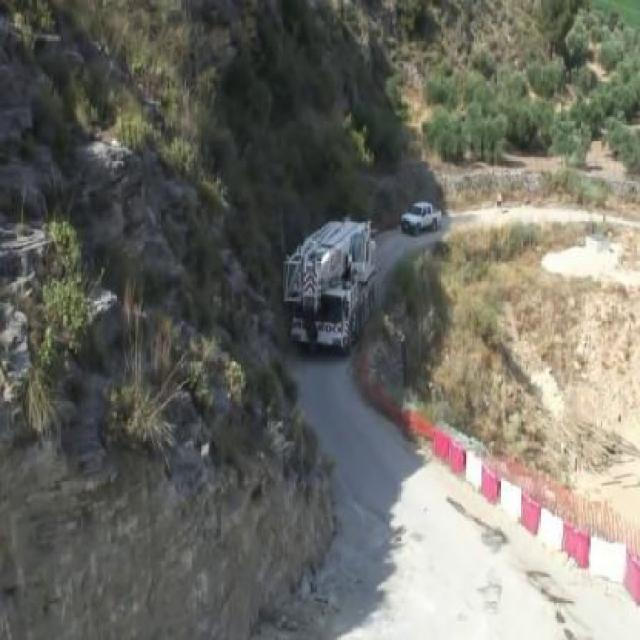Mobile Crane: (284, 218, 370, 353)
